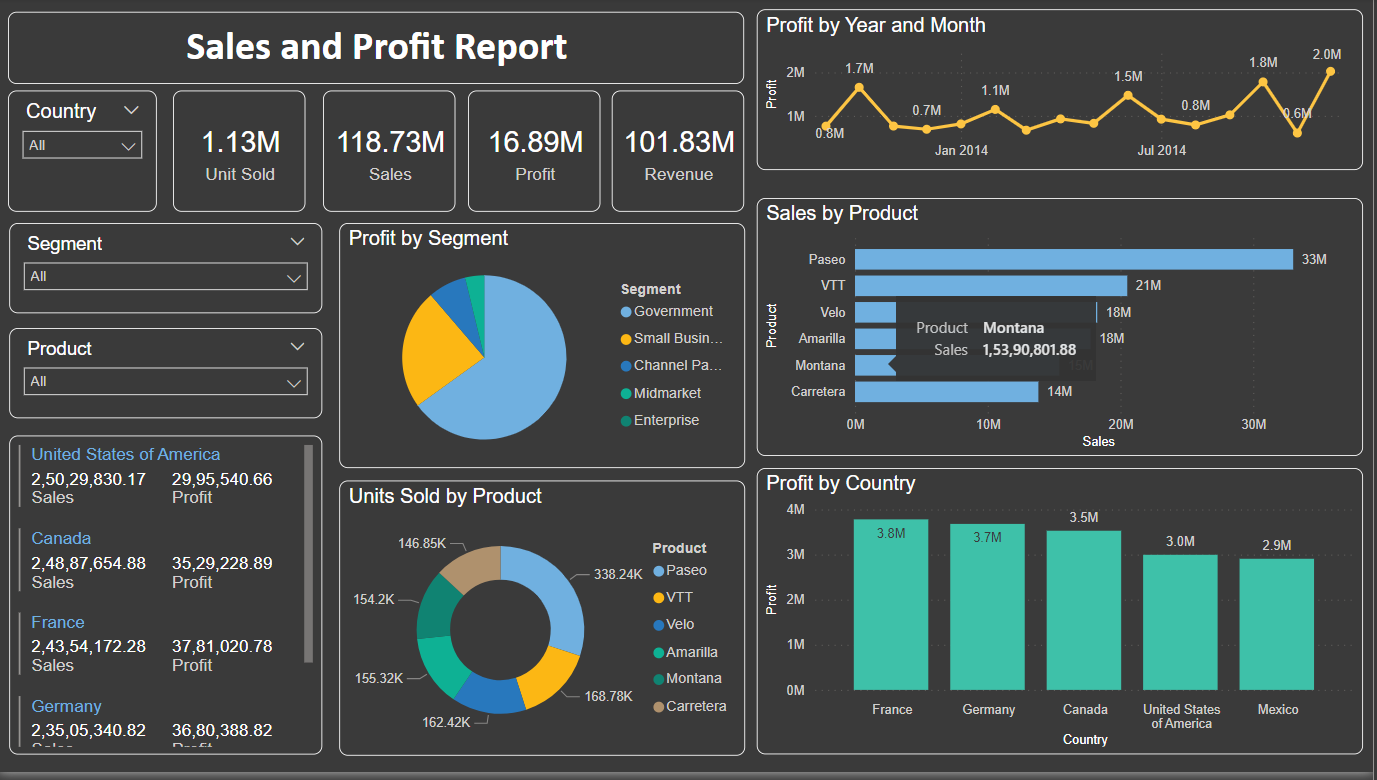

What the dashboard file says about the page in this screenshot:
{"tool":"powerbi","page":{"name":"Page 1","canvas":[1280,720],"ordinal":0},"visuals":[{"type":"textbox","box":[9.6,12.3,684.7,67.2],"z":0},{"type":"lineChart","fields":{"Category":["financials.Date.Variation.Date Hierarchy.Year","financials.Date.Variation.Date Hierarchy.Month"],"Y":["Sum(financials.Profit)"]},"box":[705.3,11,564,149.6],"z":1000},{"type":"clusteredBarChart","fields":{"Y":["Sum(financials. Sales)"],"Category":["financials.Product"]},"box":[705.3,186.6,564,240.1],"z":2000},{"type":"columnChart","fields":{"Category":["financials.Country"],"Y":["Sum(financials.Profit)"]},"box":[705.3,437.7,564,266.2],"z":3000},{"type":"card","fields":{"Values":["Sum(financials. Sales)"]},"box":[301.9,86.4,123.5,112.5],"z":4000},{"type":"card","fields":{"Values":["Sum(financials.Profit)"]},"box":[437.7,86.4,123.5,112.5],"z":5000},{"type":"card","fields":{"Values":["Sum(financials.COGS)"]},"box":[570.8,86.4,123.5,112.5],"z":6000},{"type":"pieChart","fields":{"Category":["financials.Segment"],"Y":["Sum(financials.Profit)"]},"box":[317,209.9,377.3,227.7],"z":7000},{"type":"donutChart","fields":{"Category":["financials.Product"],"Y":["Sum(financials.Units Sold)"]},"box":[317,448.7,377.3,255.6],"z":8000},{"type":"card","fields":{"Values":["Sum(financials.Units Sold)"]},"box":[163.3,86.4,123.5,112.5],"z":9000},{"type":"slicer","fields":{"Values":["financials.Segment"]},"box":[10,209.9,291.3,83.7],"z":10000},{"type":"slicer","fields":{"Values":["financials.Product"]},"box":[10,307,291.3,83.7],"z":11000},{"type":"slicer","fields":{"Values":["financials.Country"]},"box":[9.6,86.4,138.6,112.5],"z":12000},{"type":"multiRowCard","fields":{"Values":["Sum(financials. Sales)","Sum(financials.Profit)","financials.Country"]},"box":[10,407.4,291.3,296.9],"z":13000}]}

Visuals, with their boxes in screenshot pixels (x1, y1, x2, y2), scaled from the page's 1280x720 canvas onto the 1377x780 screenshot:
textbox: 10 13 747 86
lineChart - financials.Date.Variation.Date Hierarchy.Year x financials.Date.Variation.Date Hierarchy.Month: 759 12 1365 174
clusteredBarChart - Sum(financials. Sales) x financials.Product: 759 202 1365 462
columnChart - financials.Country x Sum(financials.Profit): 759 474 1365 763
card - Sum(financials. Sales): 325 94 458 215
card - Sum(financials.Profit): 471 94 604 215
card - Sum(financials.COGS): 614 94 747 215
pieChart - financials.Segment x Sum(financials.Profit): 341 227 747 474
donutChart - financials.Product x Sum(financials.Units Sold): 341 486 747 763
card - Sum(financials.Units Sold): 176 94 309 215
slicer - financials.Segment: 11 227 324 318
slicer - financials.Product: 11 333 324 423
slicer - financials.Country: 10 94 159 215
multiRowCard - Sum(financials. Sales) x Sum(financials.Profit): 11 441 324 763
